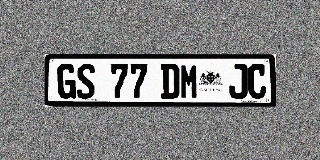7: (110, 64, 128, 99), (129, 64, 147, 99)
C: (248, 64, 266, 99)
D: (161, 64, 179, 99)
G: (57, 64, 76, 99)
J: (229, 64, 247, 99)
M: (180, 64, 198, 99)
S: (77, 64, 95, 99)
